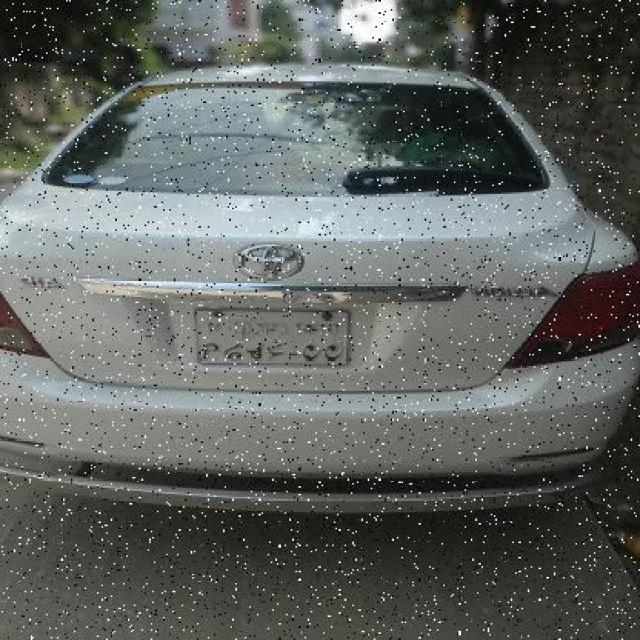numberplate: (192, 305, 351, 369)
